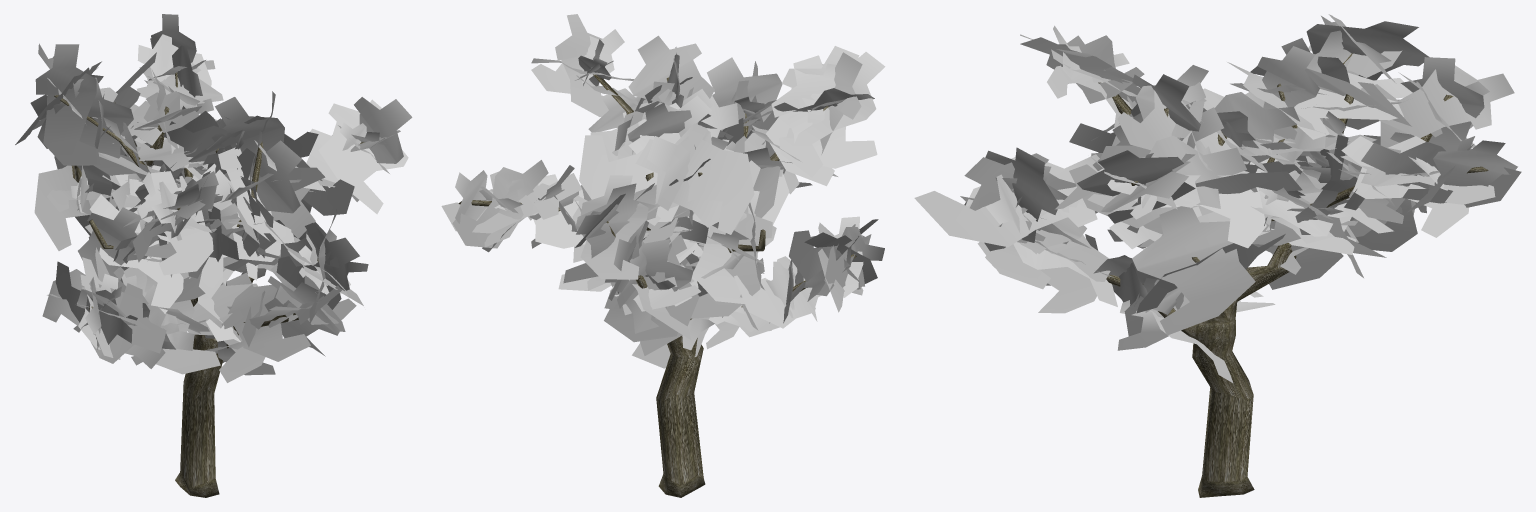
Rendered from Tree01.fbx.
The picture shows the model from 3 angles, left to right: view 1: azimuth 30°, elevation 25°; view 2: azimuth 150°, elevation 25°; view 3: azimuth 270°, elevation 25°; orthographic projection. The views are drawn at different scales.
Visible parts, largest first — view 1: arbol003.007; view 2: arbol003.007; view 3: arbol003.007.
Boxes of the visible parts, bbox=[...] form: arbol003.007: bbox=[15, 14, 412, 497]; arbol003.007: bbox=[441, 14, 885, 497]; arbol003.007: bbox=[914, 14, 1521, 497].
Size of the model in its own units: 19.1 by 22.68 by 28.
